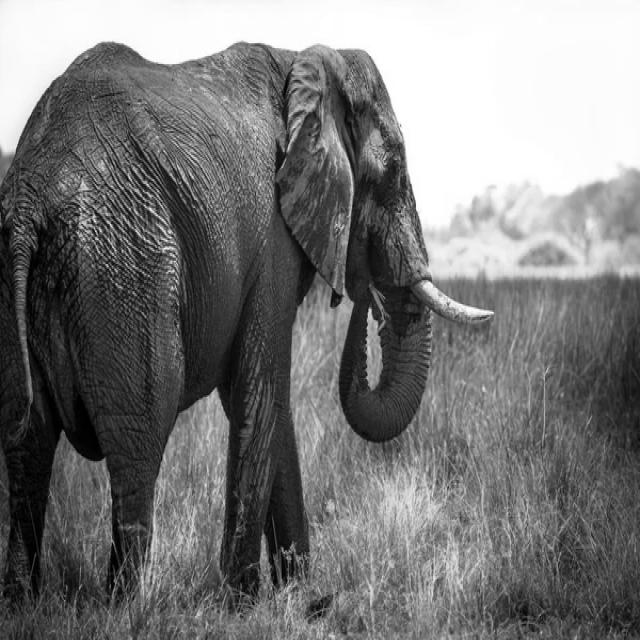Animal: (0, 41, 477, 613)
